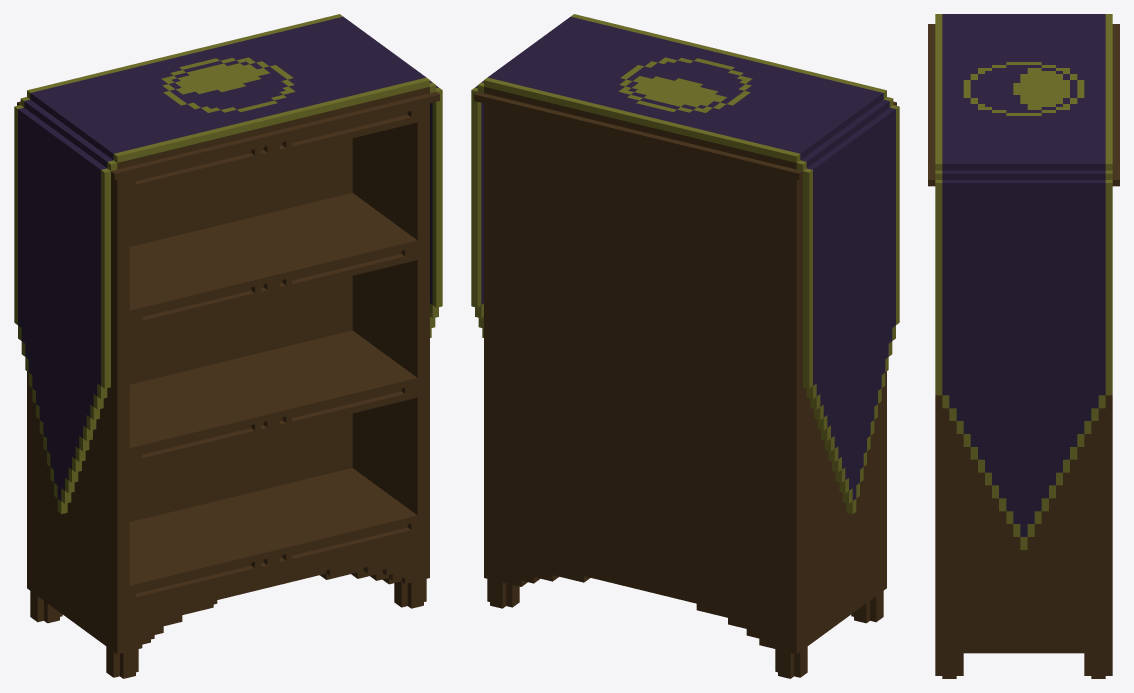
File: Wizardbookshelf.obj
3 views of the same model, side by side, from view 1: azimuth 30°, elevation 25°; view 2: azimuth 150°, elevation 25°; view 3: azimuth 270°, elevation 25° (orthographic).
Parts seen in each view (by area): view 1: Wizardbookshelf; view 2: Wizardbookshelf; view 3: Wizardbookshelf.
Boxes of the visible parts, box(x1,y1,x2,y2) form: Wizardbookshelf: box(14, 14, 442, 678); Wizardbookshelf: box(471, 14, 899, 678); Wizardbookshelf: box(928, 14, 1119, 678).
Size of the model in its own units: 54 by 80 by 27.
Materials: 1 (1 with a texture image).
